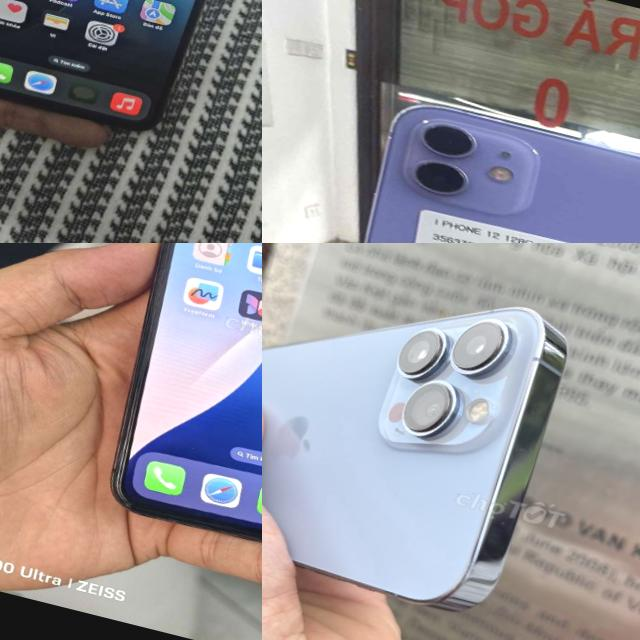gen_12_13: (262, 243, 582, 628), (296, 88, 640, 243)
gen_x_xs: (87, 243, 262, 583), (0, 0, 262, 165)
